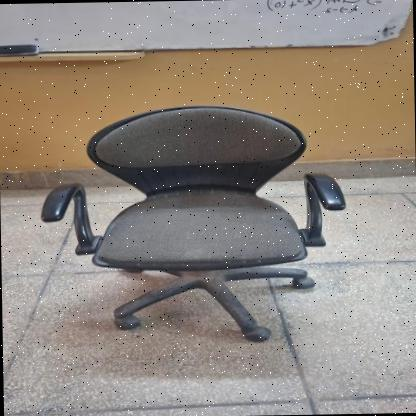chair: (36, 93, 350, 348)
